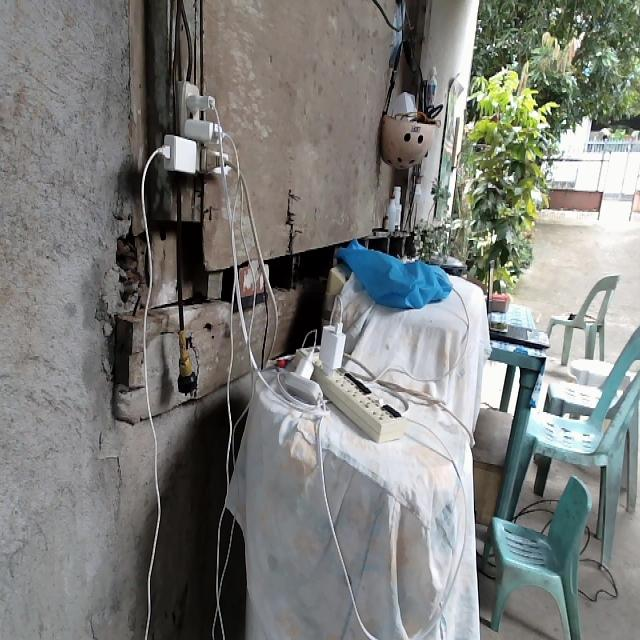-: (149, 73, 236, 179)
